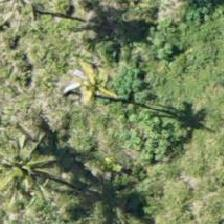coconut_tree: (39, 46, 129, 136), (0, 120, 75, 210)
